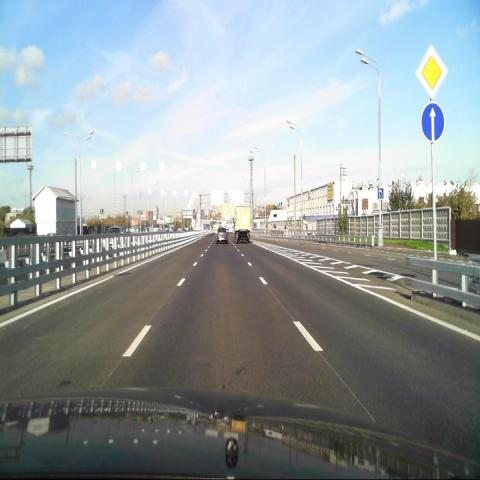2_1: (415, 43, 448, 100)
4_1_1: (421, 100, 446, 144)
